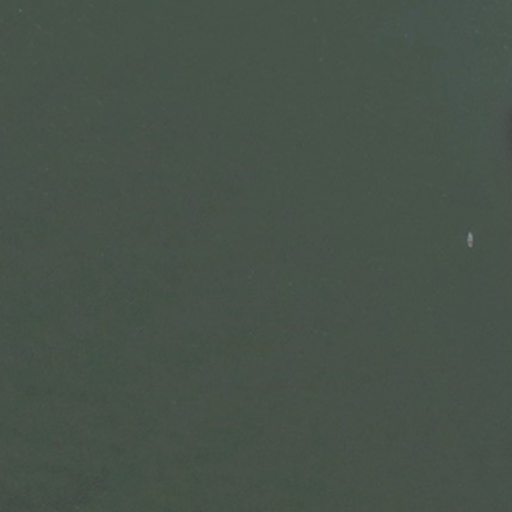ship: (463, 228, 478, 250)
